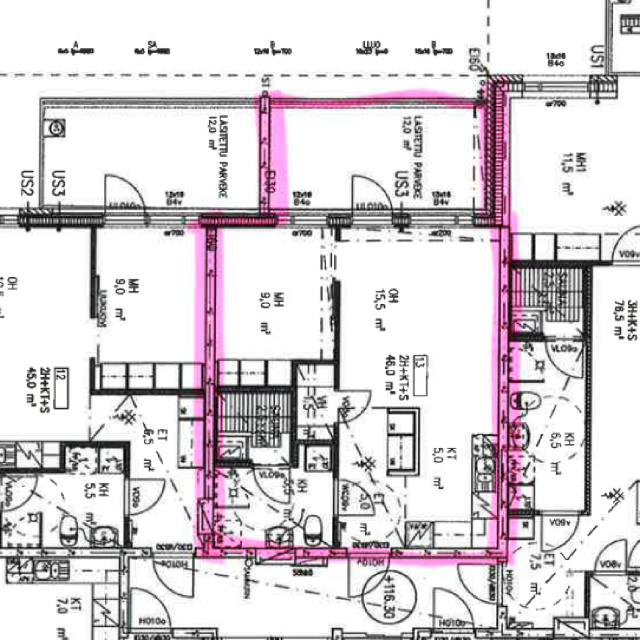door: (438, 559, 495, 633), (345, 168, 396, 228), (98, 169, 150, 226), (426, 580, 477, 636), (452, 554, 501, 608), (148, 548, 196, 602), (125, 581, 172, 633), (344, 543, 391, 589), (536, 508, 581, 556), (121, 475, 167, 519), (331, 475, 376, 519), (542, 334, 584, 379), (252, 462, 294, 505), (589, 536, 634, 576), (0, 468, 39, 514), (605, 222, 640, 268), (334, 388, 374, 424)
window: (404, 203, 478, 235), (515, 76, 593, 105), (143, 202, 211, 232), (274, 203, 336, 231), (550, 615, 590, 639), (0, 207, 24, 231)
zone: (501, 89, 640, 259), (0, 232, 91, 470), (92, 220, 210, 392), (209, 224, 336, 380), (502, 349, 590, 515), (208, 464, 332, 558), (0, 472, 128, 554), (0, 556, 120, 640), (497, 544, 587, 634), (214, 386, 294, 466), (508, 262, 590, 338), (290, 363, 338, 445), (586, 568, 640, 634), (606, 0, 640, 77)
